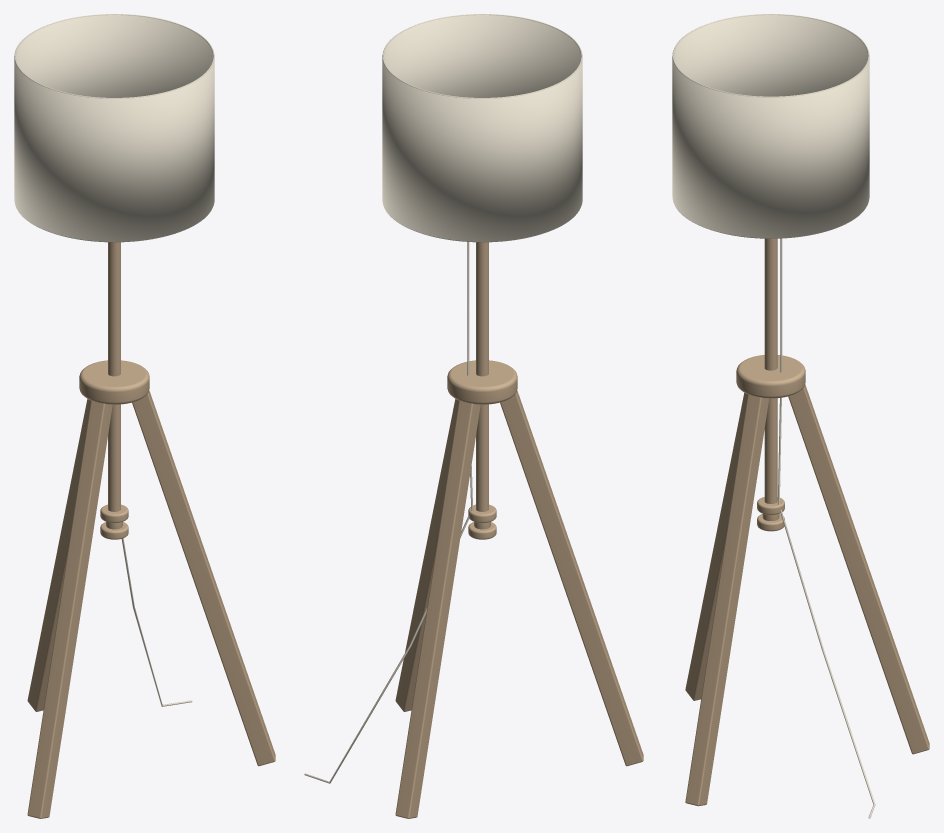
The model's file is floor-lamp.glb.
The picture shows the model from 3 angles, left to right: view 1: azimuth 30°, elevation 25°; view 2: azimuth 150°, elevation 25°; view 3: azimuth 270°, elevation 25°; orthographic projection.
Visible parts, largest first — view 1: White textile drum shade, Splayed ash tripod leg.001, Splayed ash tripod leg.002, Splayed ash tripod leg, Adjustable ash stem, Round tripod hub, Shade bound rim.001, White power cord; view 2: White textile drum shade, Splayed ash tripod leg, Splayed ash tripod leg.001, Splayed ash tripod leg.002, Adjustable ash stem, Round tripod hub, White power cord, Shade bound rim.001; view 3: White textile drum shade, Splayed ash tripod leg.002, Splayed ash tripod leg, Splayed ash tripod leg.001, Adjustable ash stem, Round tripod hub, White power cord, Shade bound rim.001.
Part boxes in pixels (box(x1,y1,x2,y2)): White textile drum shade: box(14, 15, 214, 241); Splayed ash tripod leg.001: box(27, 400, 112, 818); Splayed ash tripod leg.002: box(132, 390, 275, 766); Splayed ash tripod leg: box(27, 399, 90, 711); Adjustable ash stem: box(108, 242, 120, 511); Round tripod hub: box(79, 360, 149, 404); Shade bound rim.001: box(14, 14, 214, 98); White power cord: box(121, 538, 192, 706); White textile drum shade: box(382, 15, 582, 241); Splayed ash tripod leg: box(395, 400, 480, 818); Splayed ash tripod leg.001: box(500, 390, 643, 766); Splayed ash tripod leg.002: box(395, 399, 458, 711); Adjustable ash stem: box(476, 242, 488, 511); Round tripod hub: box(447, 360, 517, 404); White power cord: box(304, 242, 473, 783); Shade bound rim.001: box(382, 14, 582, 98); White textile drum shade: box(672, 15, 869, 238); Splayed ash tripod leg.002: box(685, 394, 769, 806); Splayed ash tripod leg: box(788, 384, 929, 754); Splayed ash tripod leg.001: box(685, 393, 747, 700); Adjustable ash stem: box(764, 238, 777, 503); Round tripod hub: box(736, 355, 805, 398); White power cord: box(777, 238, 875, 818); Shade bound rim.001: box(672, 14, 869, 97).
Bounding box in the file's own units: 0.5523 × 1.5 × 0.4968.
